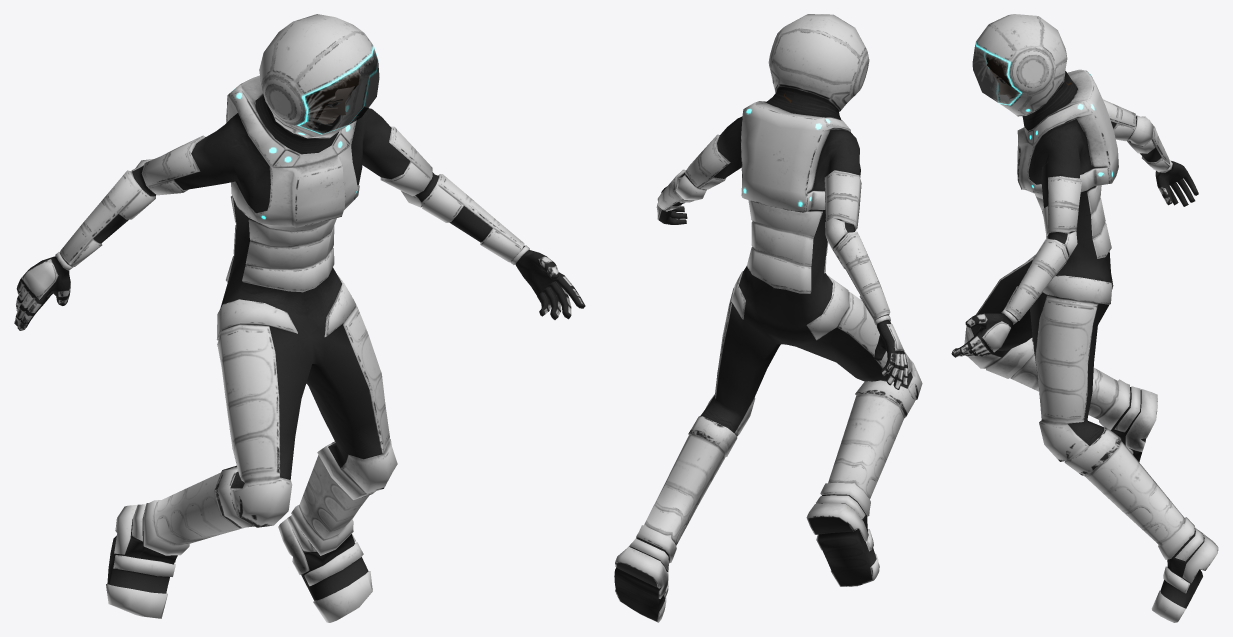
The model's file is landingModel.glb.
3 views of the same model, side by side, from view 1: azimuth 30°, elevation 25°; view 2: azimuth 150°, elevation 25°; view 3: azimuth 270°, elevation 25° (orthographic). The views are drawn at different scales.
Visible parts, largest first — view 1: Object_3, Object_4; view 2: Object_3; view 3: Object_3, Object_4.
Boxes of the visible parts, box(x1,y1,x2,y2) form: Object_3: box(14, 14, 585, 622); Object_4: box(305, 68, 359, 128); Object_3: box(614, 14, 922, 622); Object_3: box(951, 14, 1218, 622); Object_4: box(986, 53, 1071, 92).
Size of the model in its own units: 1.8 by 2.79 by 1.2.
Materials: 3 (2 with a texture image).
